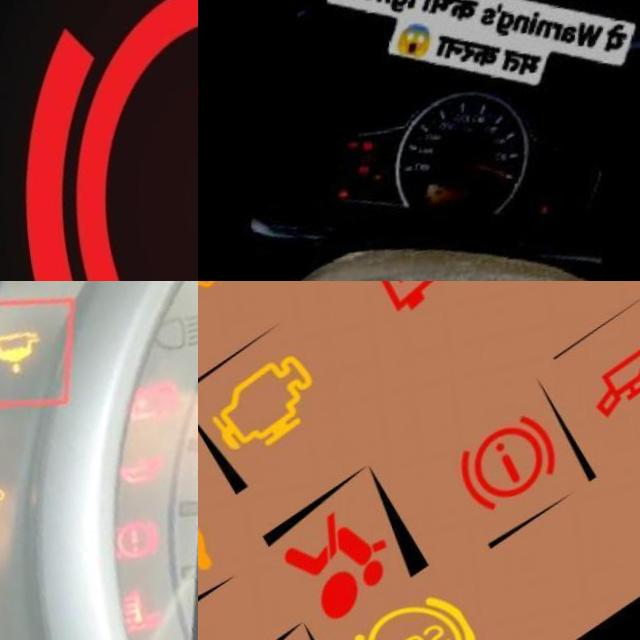Engine cooling system: (101, 582, 182, 640)
